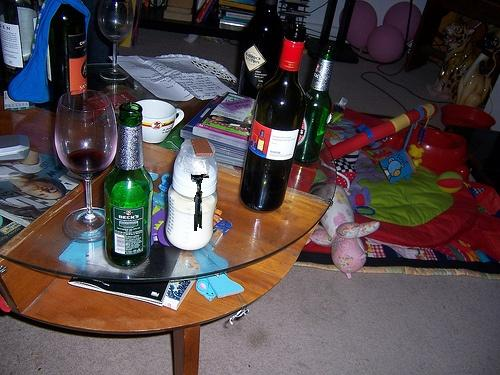tampered: (192, 175, 209, 231)
